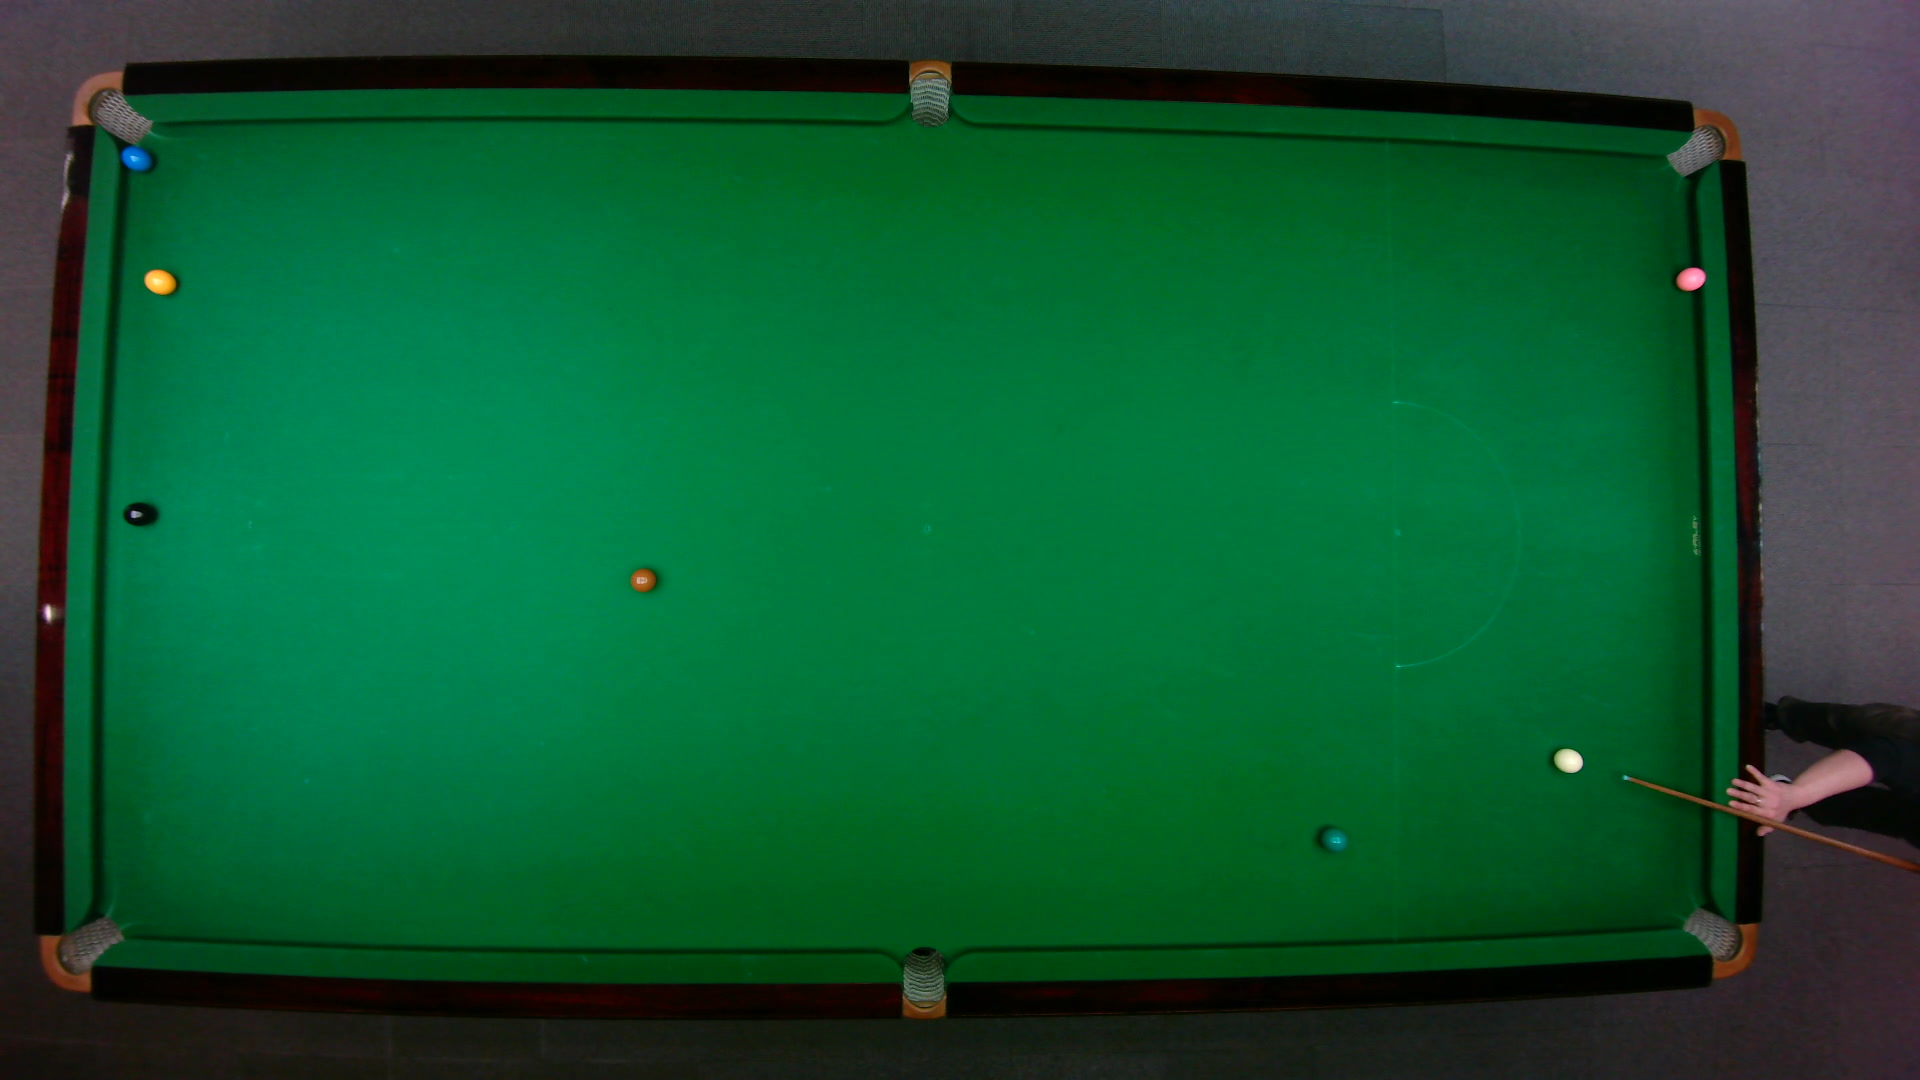bag: (37, 913, 125, 992), (69, 69, 153, 145), (1679, 905, 1756, 978), (1663, 107, 1741, 177), (901, 944, 944, 1021), (909, 57, 949, 127)
black: (121, 500, 154, 526)
blue: (117, 144, 153, 171)
brown: (628, 566, 657, 592)
cue: (1619, 771, 1917, 876)
green: (1317, 825, 1349, 852)
pink: (1673, 264, 1706, 291)
white: (1551, 746, 1584, 773)
yellow: (142, 266, 177, 295)
zone: (1390, 400, 1520, 667)
